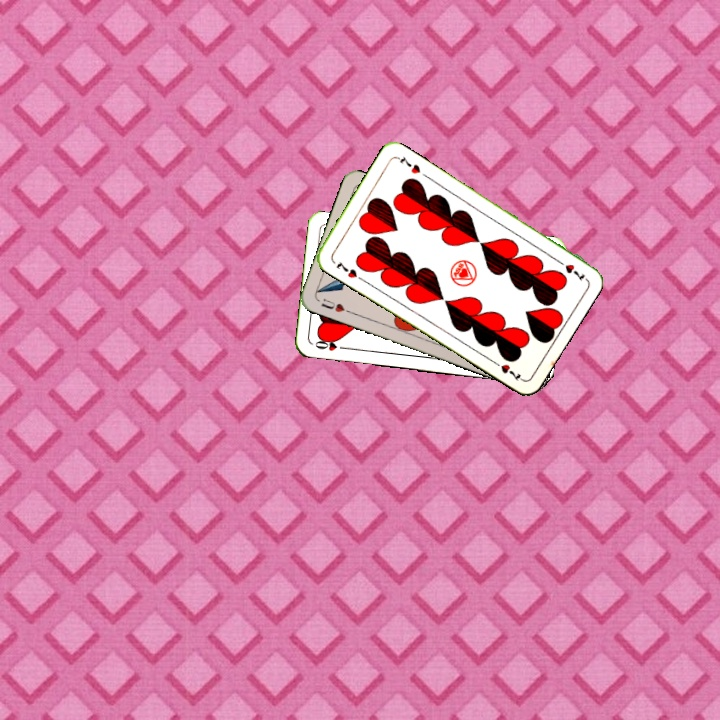H7: (552, 255, 587, 283), (332, 257, 360, 281)
HO: (311, 336, 350, 354)
HU: (317, 294, 353, 316)
